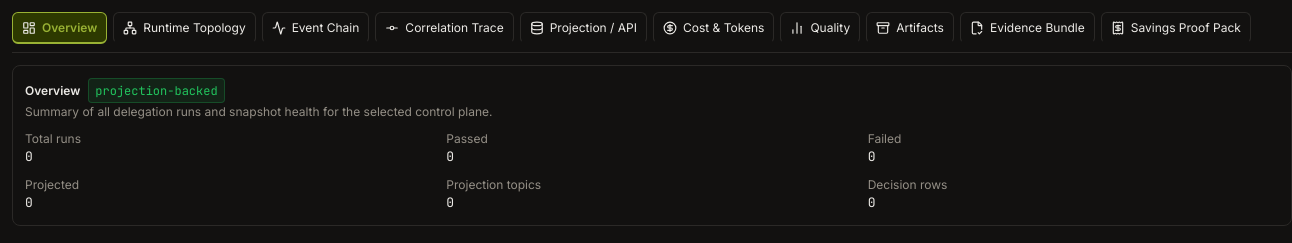
Scenario: DelegationEvidenceTabs Cost & Tokens (OMN-21166 AC38) › says a null saving and absent token usage are not measured, never $0.00 or 0
Click the tab "Cost & Tokens".
click(714, 28)  # box [653,12,774,44]
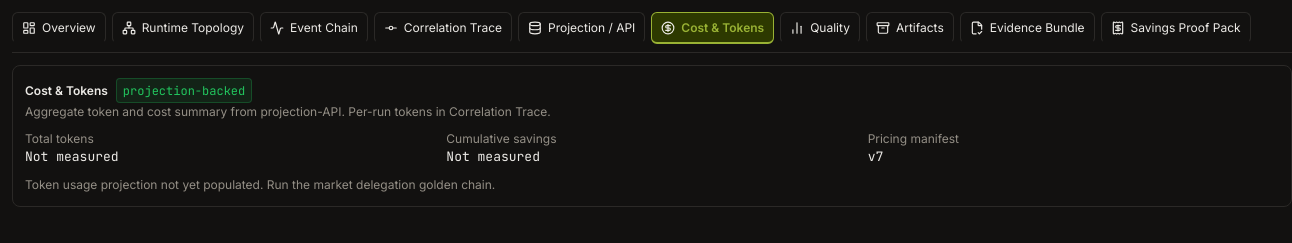
expect the text "0" is gone: met
expect the text "Not measured" below "Total tokens" is shown: met, box [25,148,119,165]
